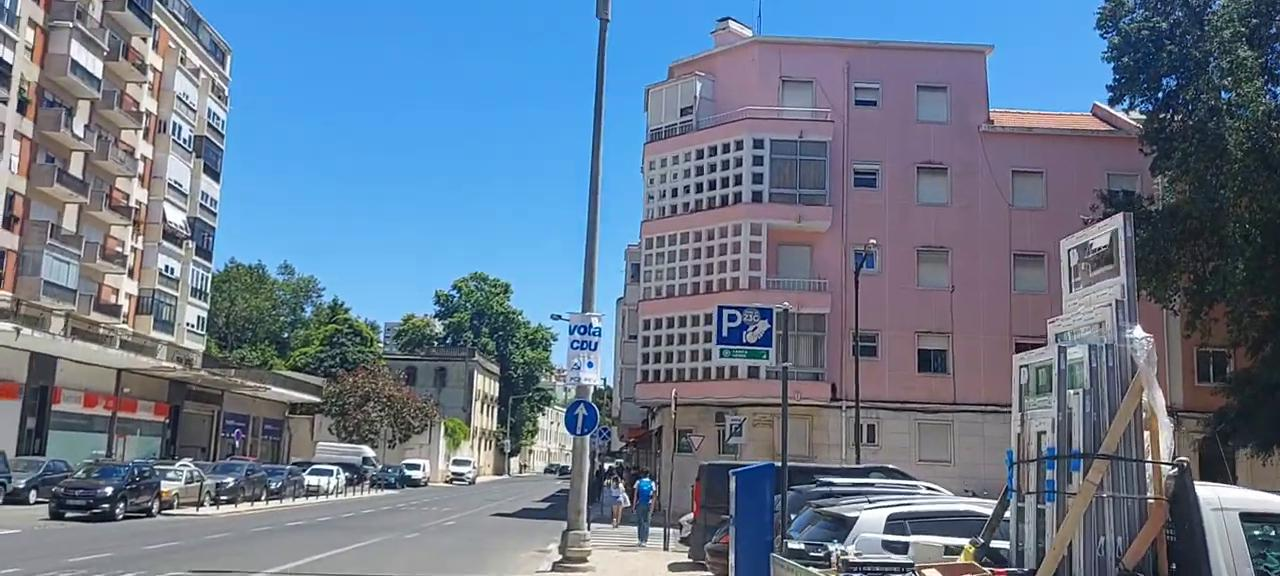sentido obrigatorio: (562, 398, 601, 435)
